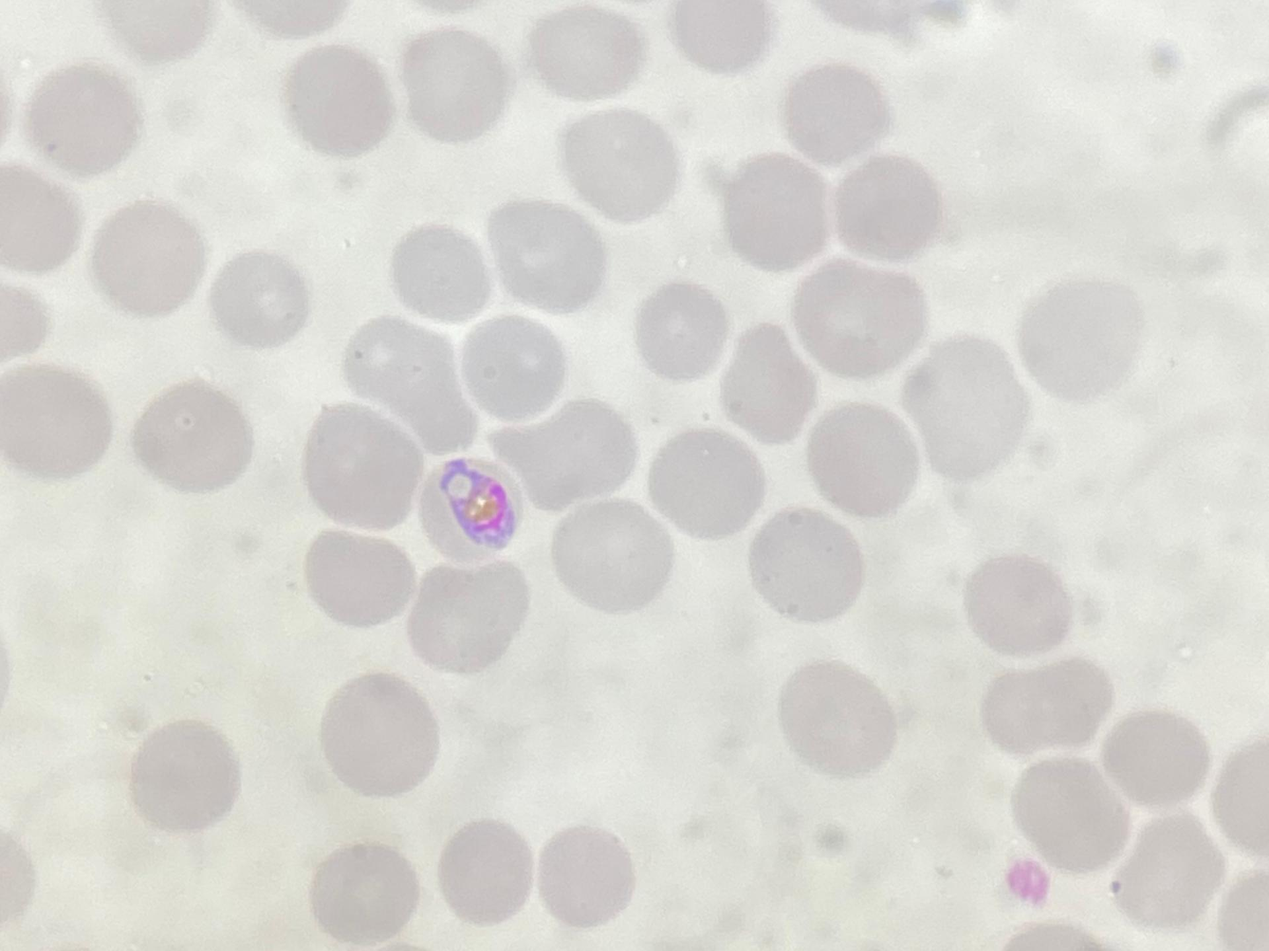Infected: (418, 455, 530, 562)
Uninfected: (904, 336, 1026, 476), (344, 313, 476, 441), (490, 398, 633, 510), (795, 258, 926, 375), (317, 673, 439, 796), (1020, 276, 1144, 397), (301, 404, 420, 528), (775, 658, 898, 777), (558, 106, 681, 221), (132, 379, 254, 492), (549, 499, 672, 611), (748, 505, 866, 620), (91, 200, 208, 315), (487, 197, 605, 311), (0, 361, 113, 480), (406, 564, 529, 673), (804, 401, 919, 517), (716, 152, 830, 269), (646, 427, 764, 538), (985, 654, 1114, 755), (128, 719, 243, 832), (281, 41, 393, 156), (24, 65, 137, 178), (1008, 757, 1123, 868), (397, 25, 508, 139), (458, 314, 570, 423), (714, 319, 814, 441), (524, 5, 649, 102), (831, 155, 943, 262), (961, 552, 1073, 655), (1112, 819, 1219, 925), (781, 62, 890, 164), (303, 525, 414, 625), (387, 221, 494, 323), (435, 818, 535, 925), (310, 843, 417, 942), (1100, 707, 1208, 804), (536, 823, 636, 926), (210, 248, 311, 346), (634, 280, 731, 379), (1, 163, 83, 278), (672, 0, 769, 74)
